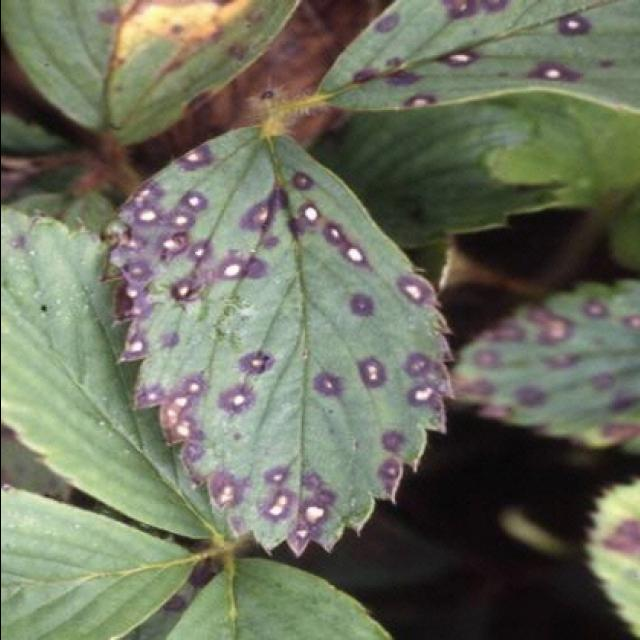Leaf Spot: (97, 125, 456, 559), (2, 203, 221, 542), (2, 0, 301, 149), (307, 0, 640, 121), (448, 278, 640, 458), (584, 477, 640, 638)
